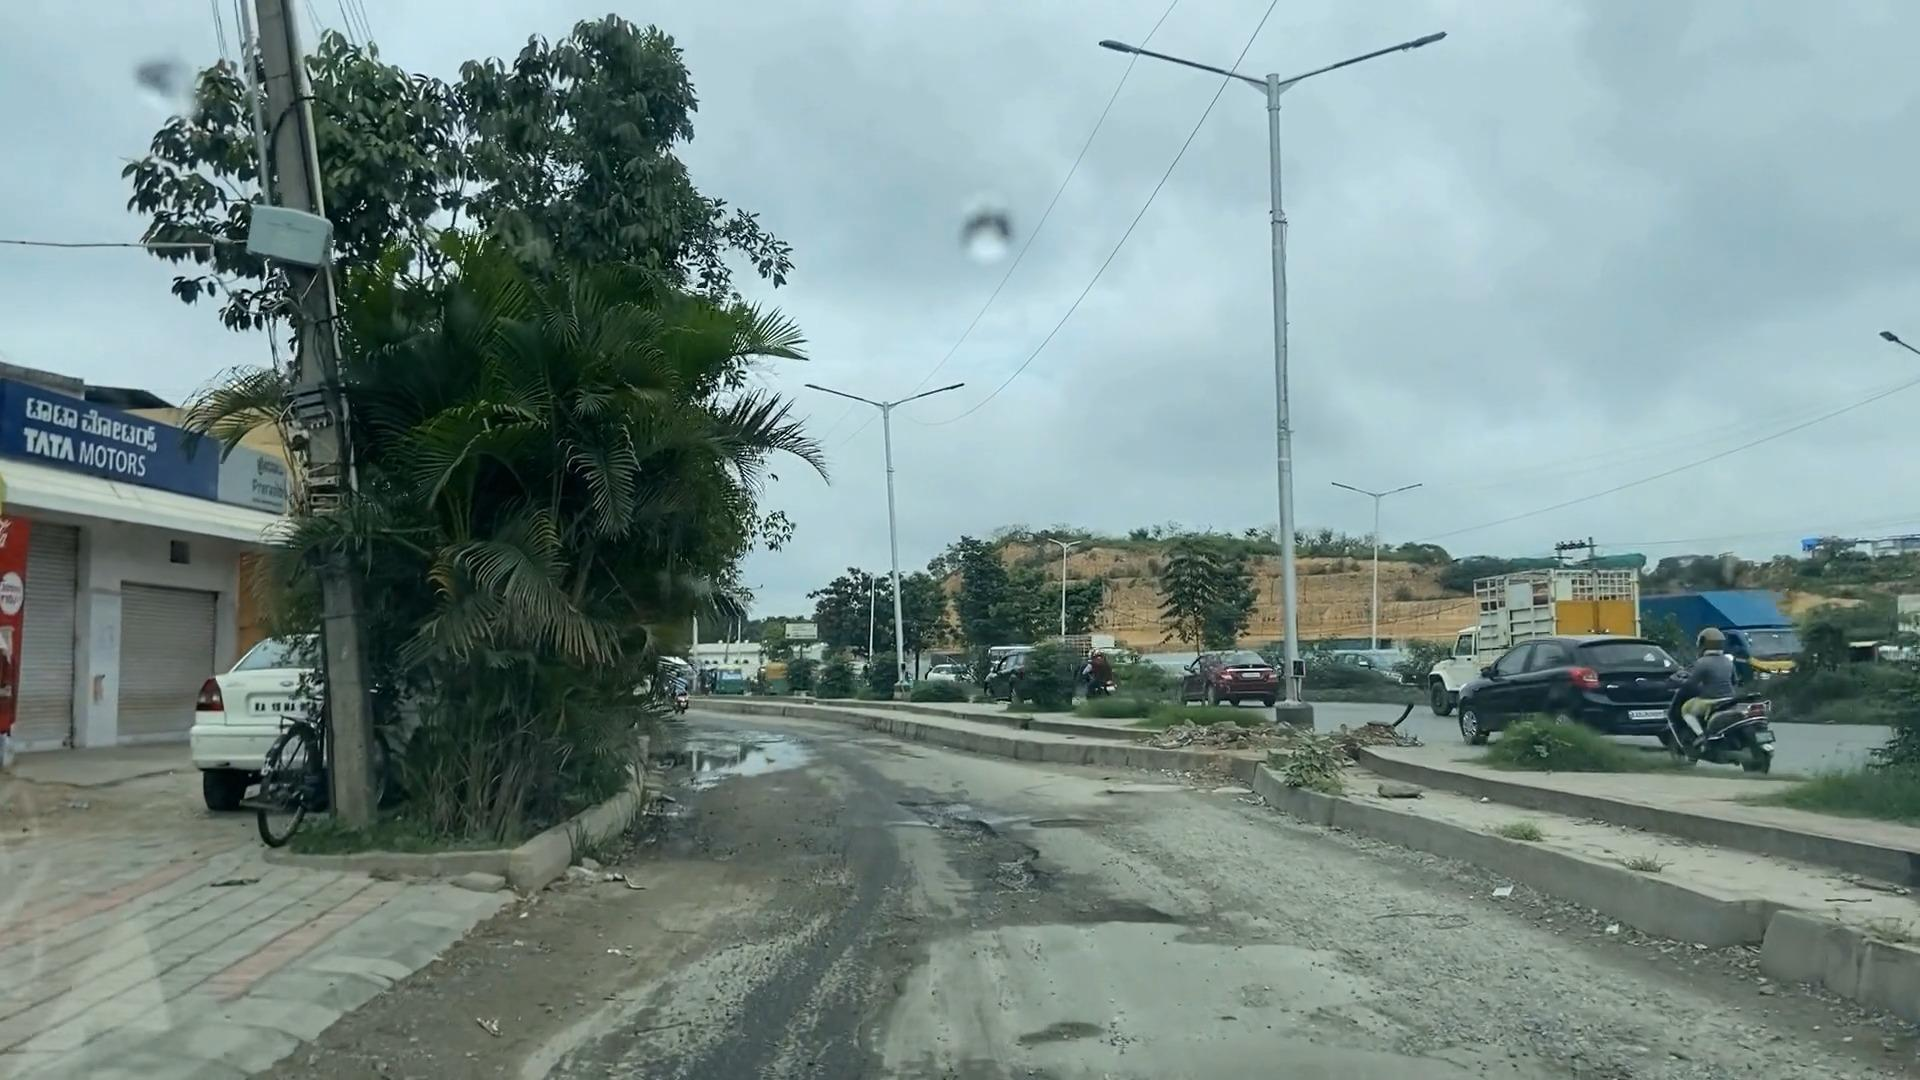RoadDamages: (903, 777, 1182, 952), (990, 1010, 1134, 1056)
